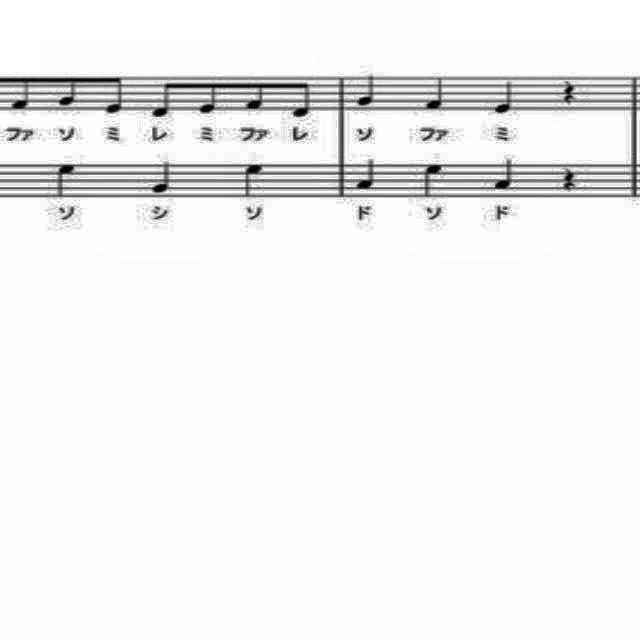Eighth-note: (100, 68, 132, 120), (196, 66, 224, 118), (8, 66, 36, 114), (290, 74, 316, 122), (150, 67, 174, 119), (53, 66, 81, 110), (240, 73, 268, 117)
Quarter-note: (491, 151, 519, 197), (421, 74, 452, 114), (148, 159, 176, 199), (492, 77, 520, 116), (53, 160, 79, 200), (353, 157, 383, 191), (423, 160, 445, 204), (354, 68, 378, 108), (243, 160, 267, 200)
Quarter-rest: (558, 160, 582, 196), (556, 76, 580, 105)
